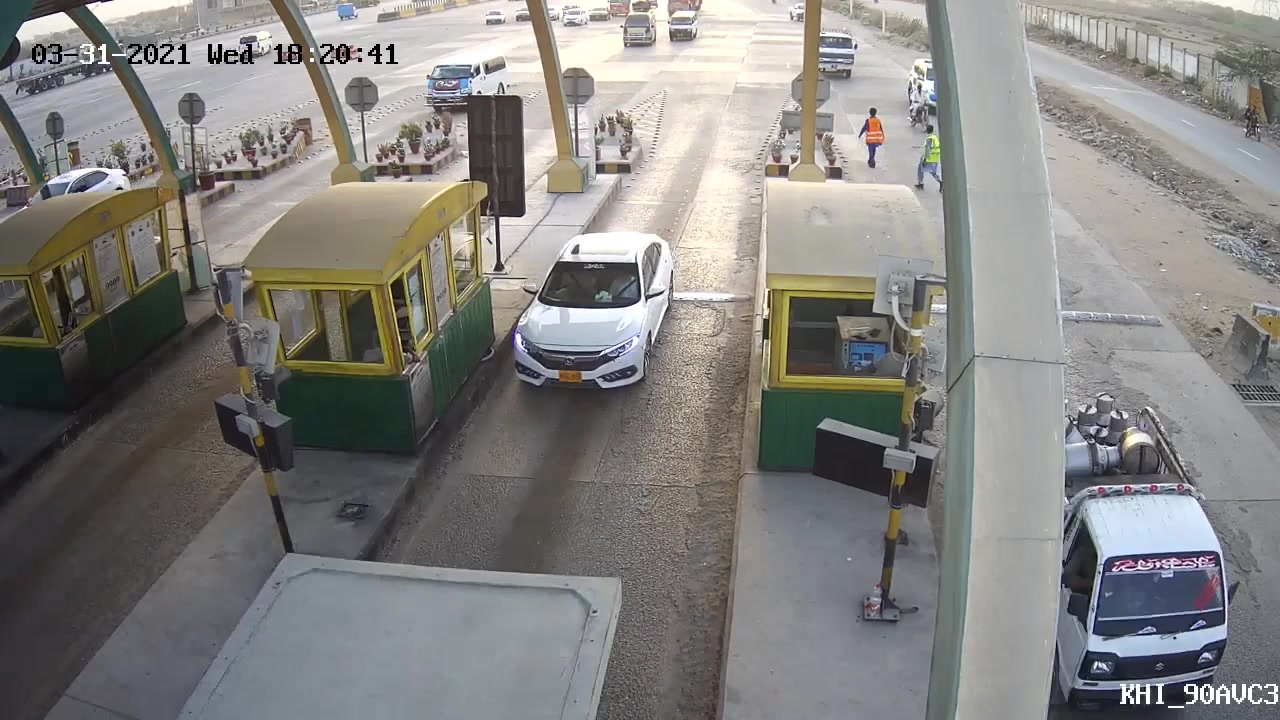F1: (507, 227, 678, 395)
